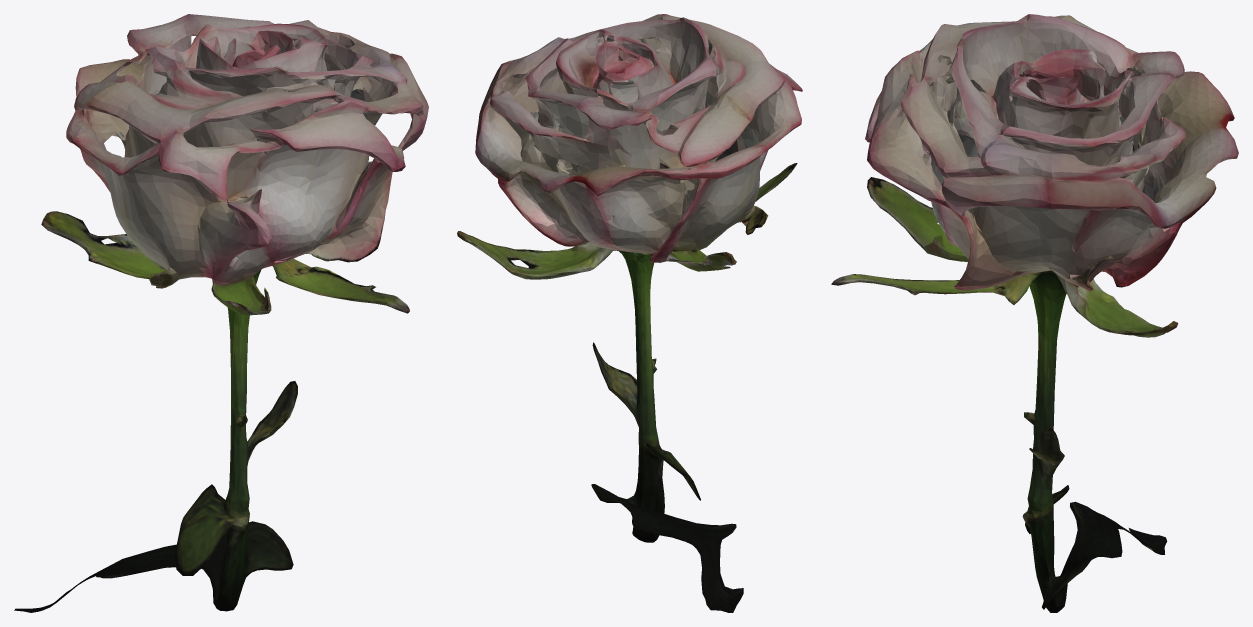
3 views of the same model, side by side, from view 1: azimuth 30°, elevation 25°; view 2: azimuth 150°, elevation 25°; view 3: azimuth 270°, elevation 25° (orthographic). The views are drawn at different scales.
Parts seen in each view (by area): view 1: world; view 2: world; view 3: world.
Boxes of the visible parts, box(x1,y1,x2,y2) form: world: box(14, 14, 428, 612); world: box(457, 14, 802, 612); world: box(831, 14, 1238, 612).
Size of the model in its own units: 0.589 by 0.9771 by 0.6217.
1 material, 1 textured.
